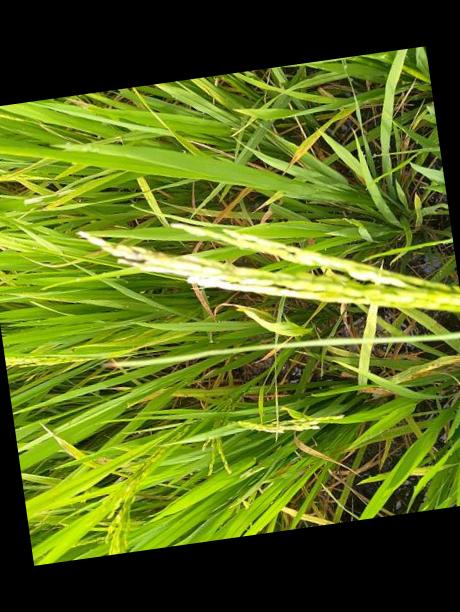Panicle Blight: (81, 222, 430, 305)
